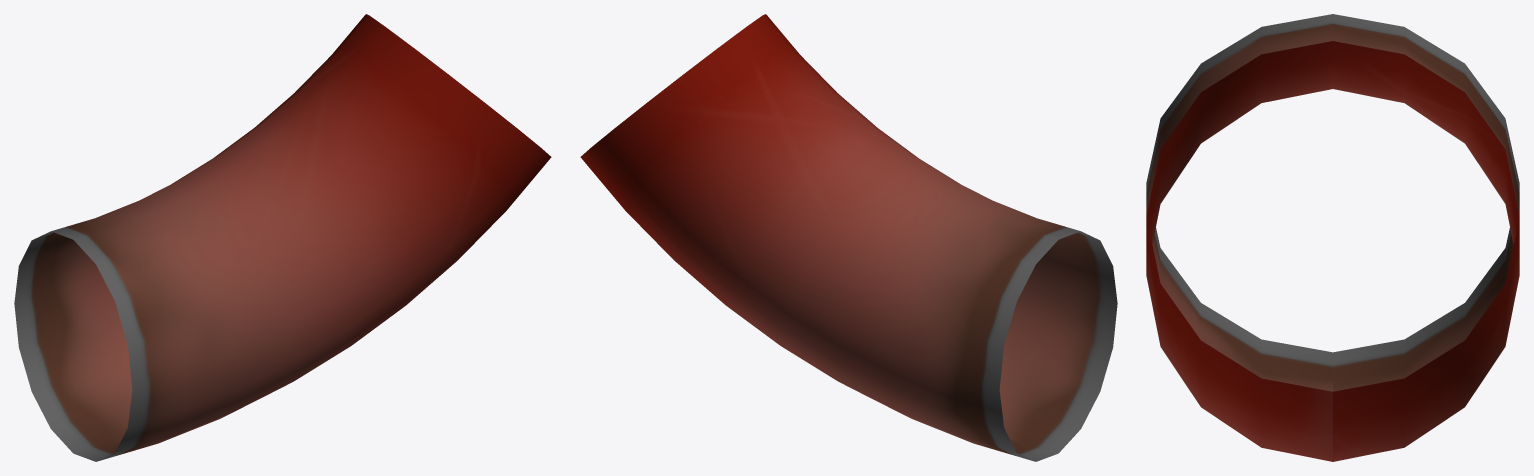
The model's file is pipe01_crn_32a.fbx.
3 renders of one model, left to right at view 1: azimuth 30°, elevation 25°; view 2: azimuth 150°, elevation 25°; view 3: azimuth 270°, elevation 25°, orthographic. The views are drawn at different scales.
Parts seen in each view (by area): view 1: pipe01_crn_32a; view 2: pipe01_crn_32a; view 3: pipe01_crn_32a.
Boxes of the visible parts, left/top/right/bottom form: pipe01_crn_32a: left=14, top=14, right=551, bottom=461; pipe01_crn_32a: left=580, top=14, right=1117, bottom=461; pipe01_crn_32a: left=1146, top=14, right=1519, bottom=461.
Bounding box in the file's own units: 26.87 × 19.62 × 12.
